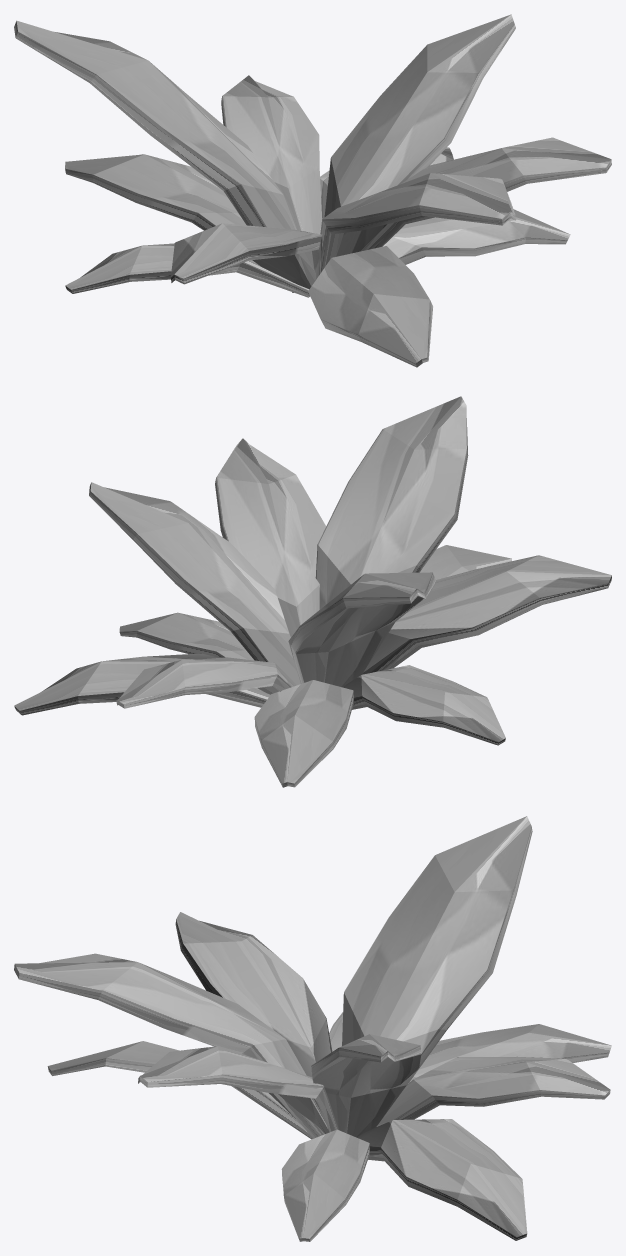
File: Bush.fbx
3 views of the same model, one above another, from view 1: azimuth 30°, elevation 25°; view 2: azimuth 150°, elevation 25°; view 3: azimuth 270°, elevation 25° (orthographic). The views are drawn at different scales.
Visible parts, largest first — view 1: Bush; view 2: Bush; view 3: Bush.
Boxes of the visible parts, <box> form: Bush: <box>14,14,611,367</box>; Bush: <box>14,396,611,787</box>; Bush: <box>14,816,611,1241</box>.
Size of the model in its own units: 2.23 by 1.17 by 2.65.
